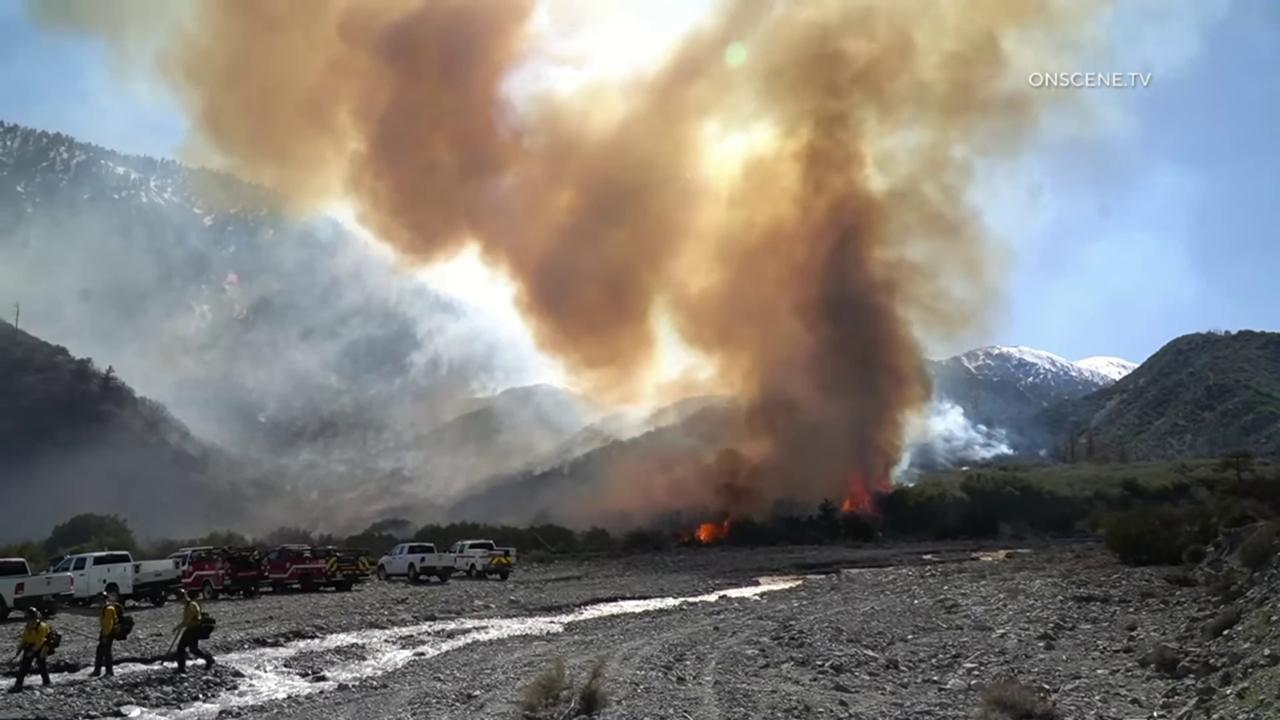fire: (839, 472, 873, 513), (694, 519, 730, 545)
smoke: (0, 0, 1122, 560)
